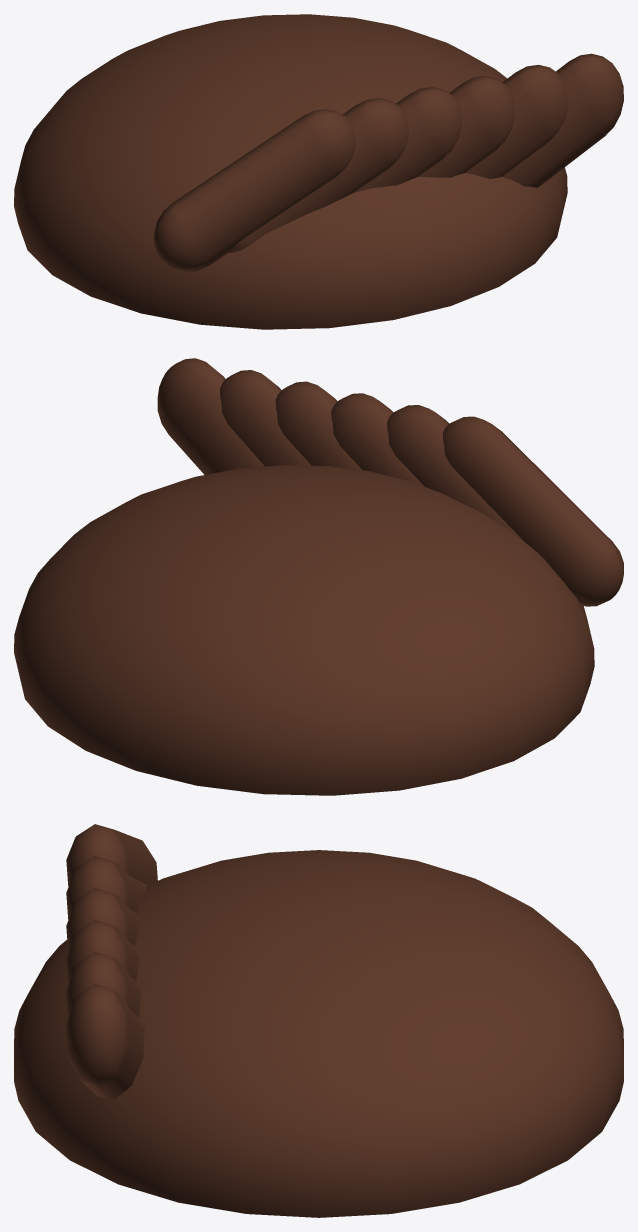
3 renders of one model, top to bottom at view 1: azimuth 30°, elevation 25°; view 2: azimuth 150°, elevation 25°; view 3: azimuth 270°, elevation 25°, orthographic. The views are drawn at different scales.
Visible parts, largest first — view 1: hair.side-swoop.hair; view 2: hair.side-swoop.hair; view 3: hair.side-swoop.hair.
Part boxes in pixels (left/top/right/bottom): hair.side-swoop.hair: left=14, top=14, right=623, bottom=329; hair.side-swoop.hair: left=14, top=358, right=623, bottom=795; hair.side-swoop.hair: left=14, top=824, right=623, bottom=1217.
Size of the model in its own units: 0.7741 by 0.2921 by 0.7382.
